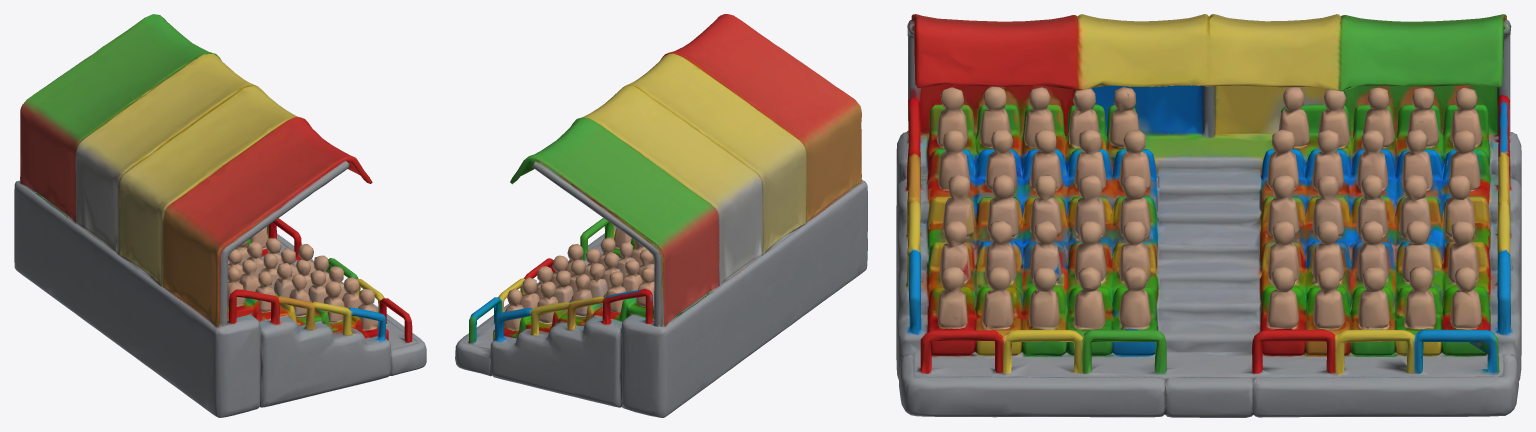
File: spectator_stand.glb
The picture shows the model from 3 angles, left to right: view 1: azimuth 30°, elevation 25°; view 2: azimuth 150°, elevation 25°; view 3: azimuth 270°, elevation 25°; orthographic projection. The views are drawn at different scales.
Parts seen in each view (by area): view 1: tripo_node_f6f03225-f529-447f-8201-d6d249c62541; view 2: tripo_node_f6f03225-f529-447f-8201-d6d249c62541; view 3: tripo_node_f6f03225-f529-447f-8201-d6d249c62541.
Part boxes in pixels (x1=…): tripo_node_f6f03225-f529-447f-8201-d6d249c62541: x1=14, y1=14, x2=426, y2=417; tripo_node_f6f03225-f529-447f-8201-d6d249c62541: x1=455, y1=14, x2=867, y2=417; tripo_node_f6f03225-f529-447f-8201-d6d249c62541: x1=896, y1=14, x2=1521, y2=417.
Size of the model in its own units: 0.5956 by 0.6 by 0.9953.
Materials: 1 (1 with a texture image).
